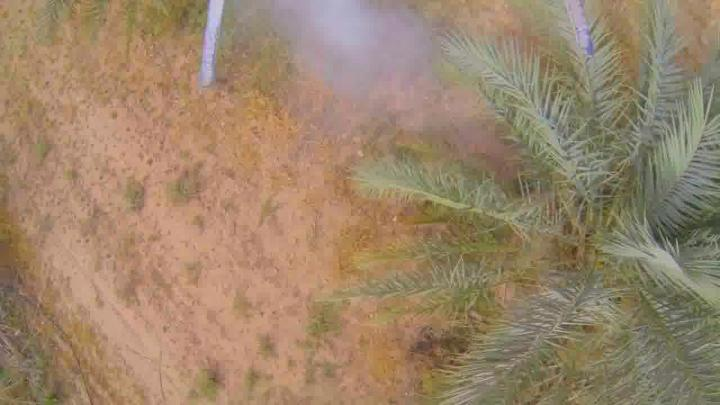Date-Palm-Crown: (462, 63, 720, 383)
